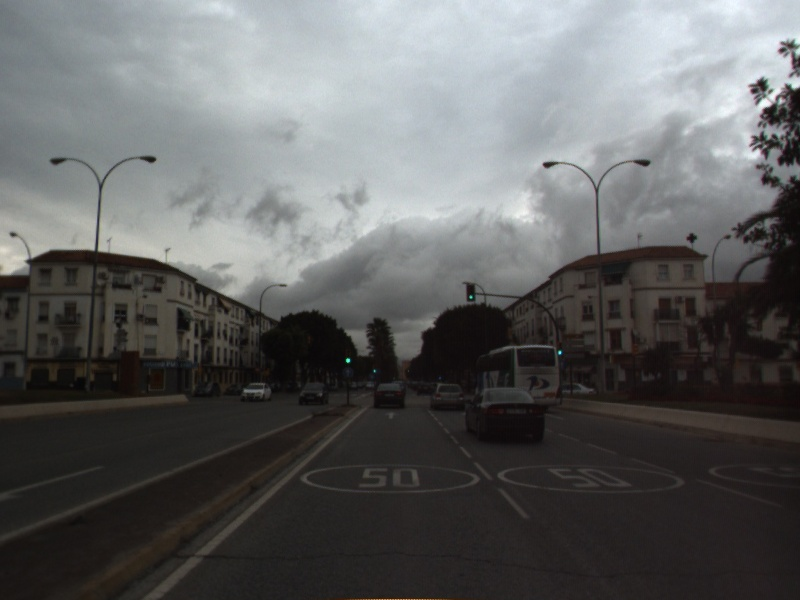STRAIGHT: (383, 410, 402, 421)
